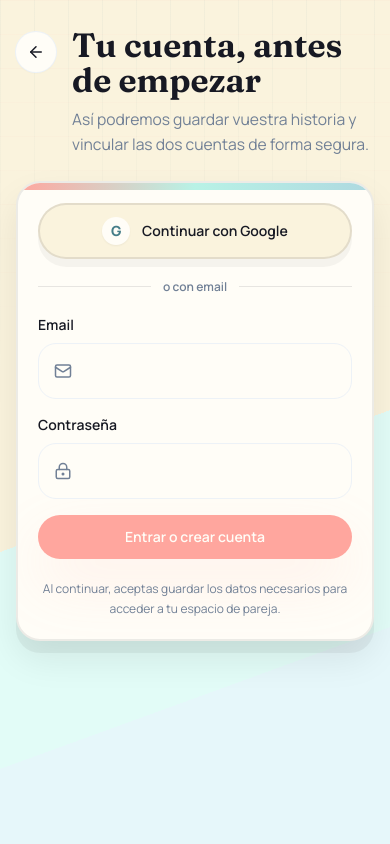
Test: onboarding authentication flow › offers creating a space or joining one after authentication
Click the button "G Continuar con Google": (195, 231) [38,203,352,259]
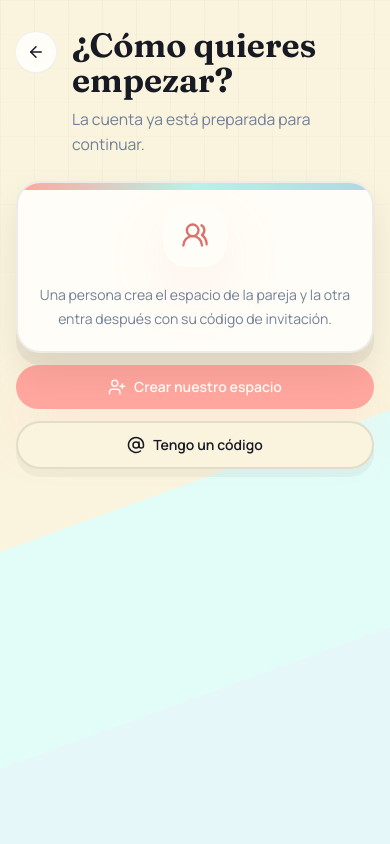
Now the button "Crear nuestro espacio" is shown, box [16,365,374,409]
Now the button "Tengo un código" is shown, box [16,421,374,469]
